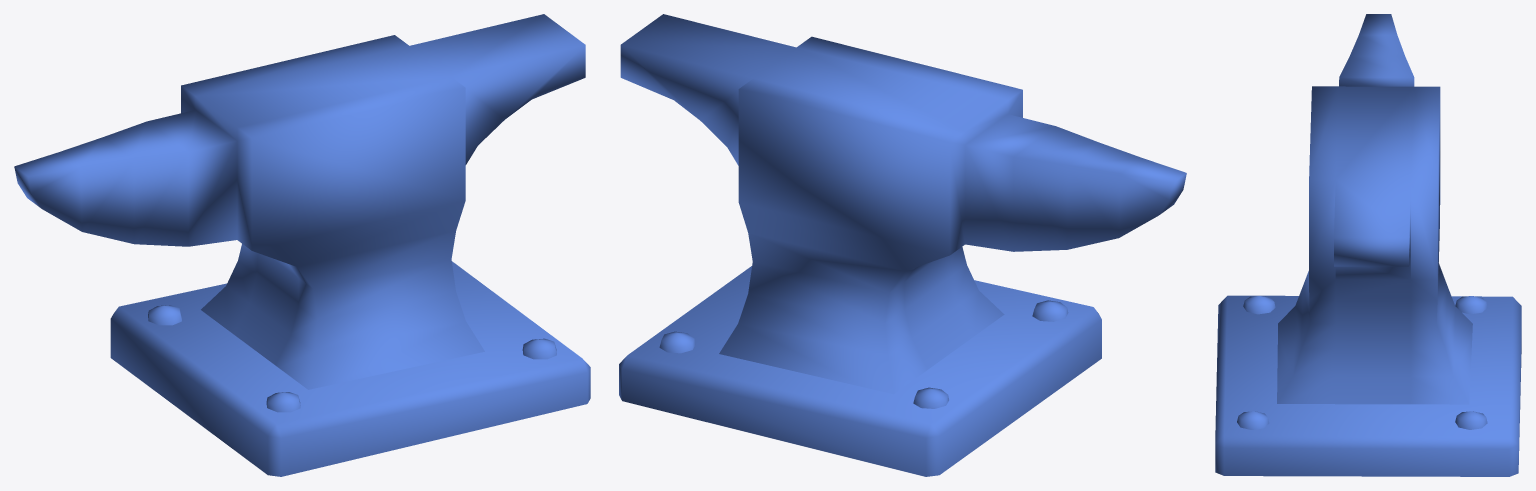
The model's file is Ivory.fbx.
3 renders of one model, left to right at view 1: azimuth 30°, elevation 25°; view 2: azimuth 150°, elevation 25°; view 3: azimuth 270°, elevation 25°, orthographic. The views are drawn at different scales.
Parts seen in each view (by area): view 1: Ivory; view 2: Ivory; view 3: Ivory.
Part boxes in pixels (box(x1,y1,x2,y2)): Ivory: box(14, 14, 590, 476); Ivory: box(619, 14, 1186, 476); Ivory: box(1215, 14, 1521, 476).
Size of the model in its own units: 0.9975 by 0.52 by 0.5489.
